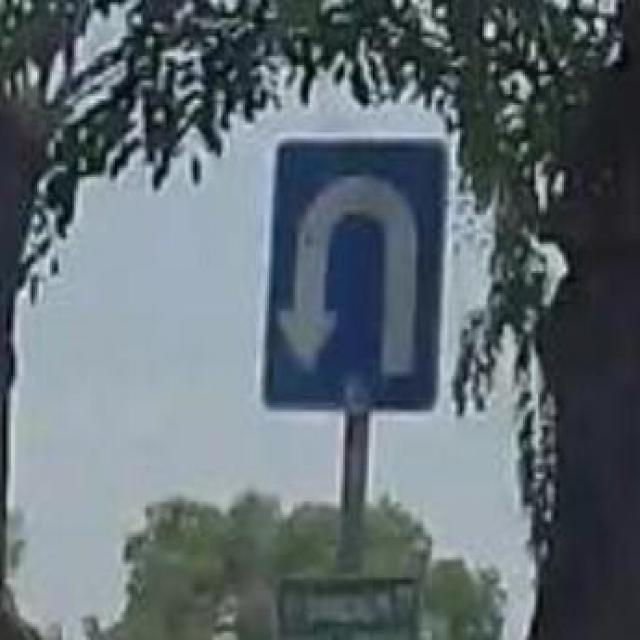U-turn: (261, 133, 448, 410)
